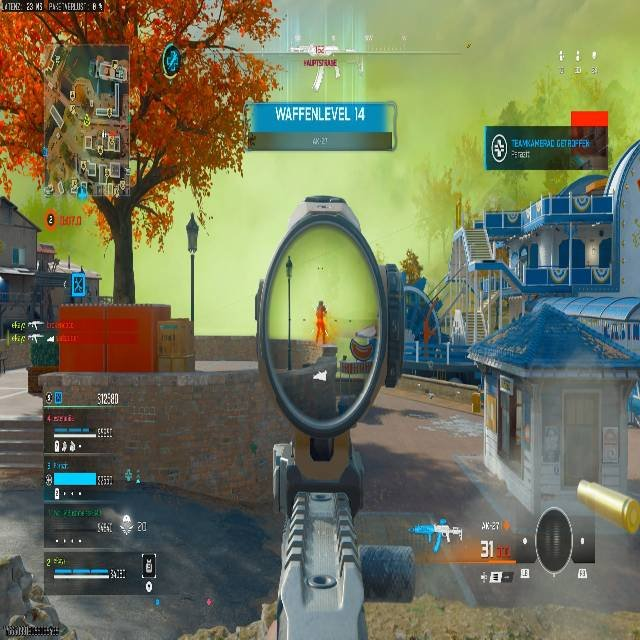player: (314, 300, 328, 344)
